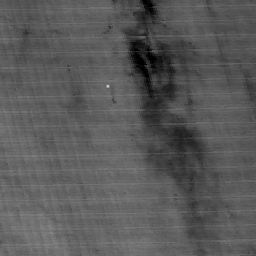Target: (104, 82, 111, 88)
